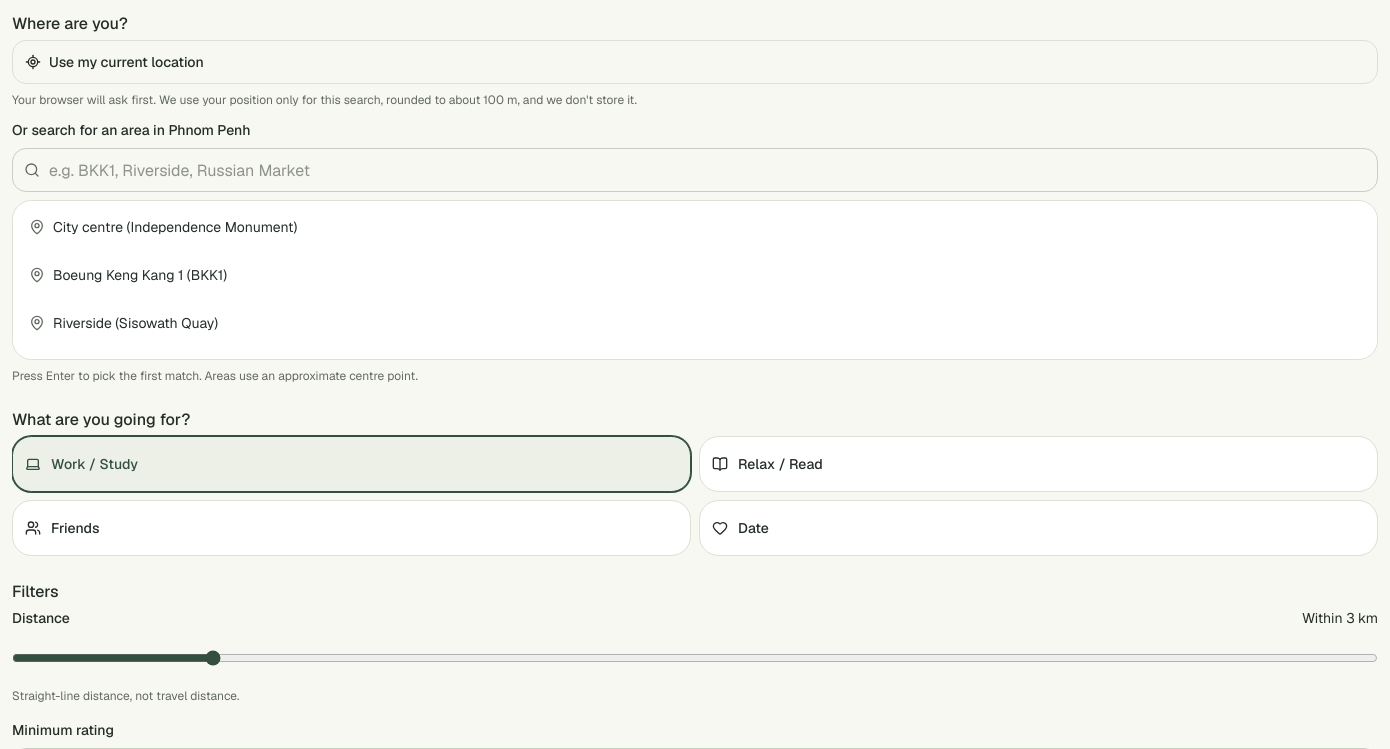
Test: DiscoveryForm › shows a message when no area matches
Type "atlantis" into the search field at x=695, y=170, box [12,148,1378,192]
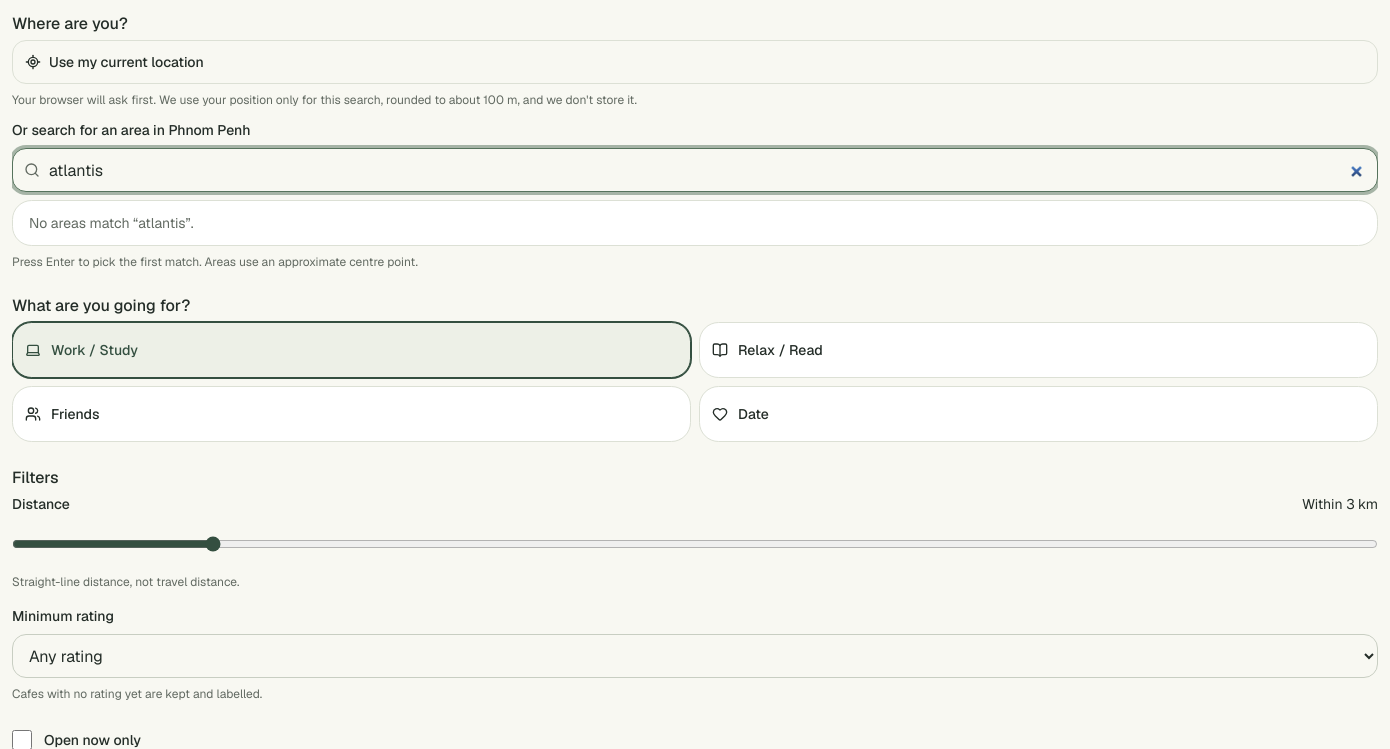
expect the list item "No areas match “atlantis”." is shown: met, box [29,214,194,232]
